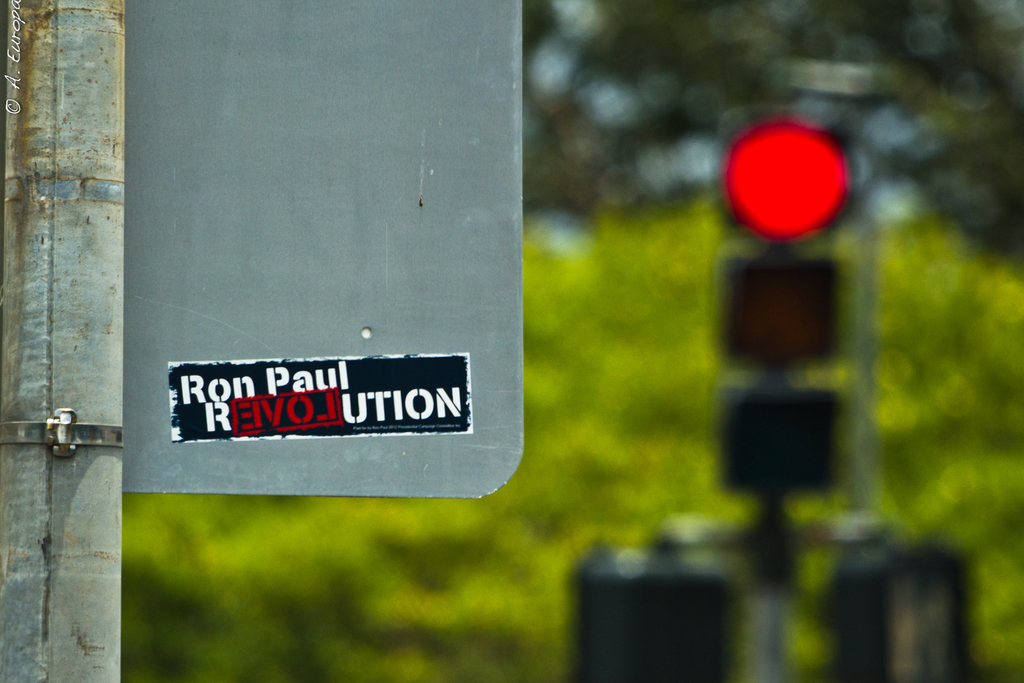red_light: (725, 120, 846, 491)
